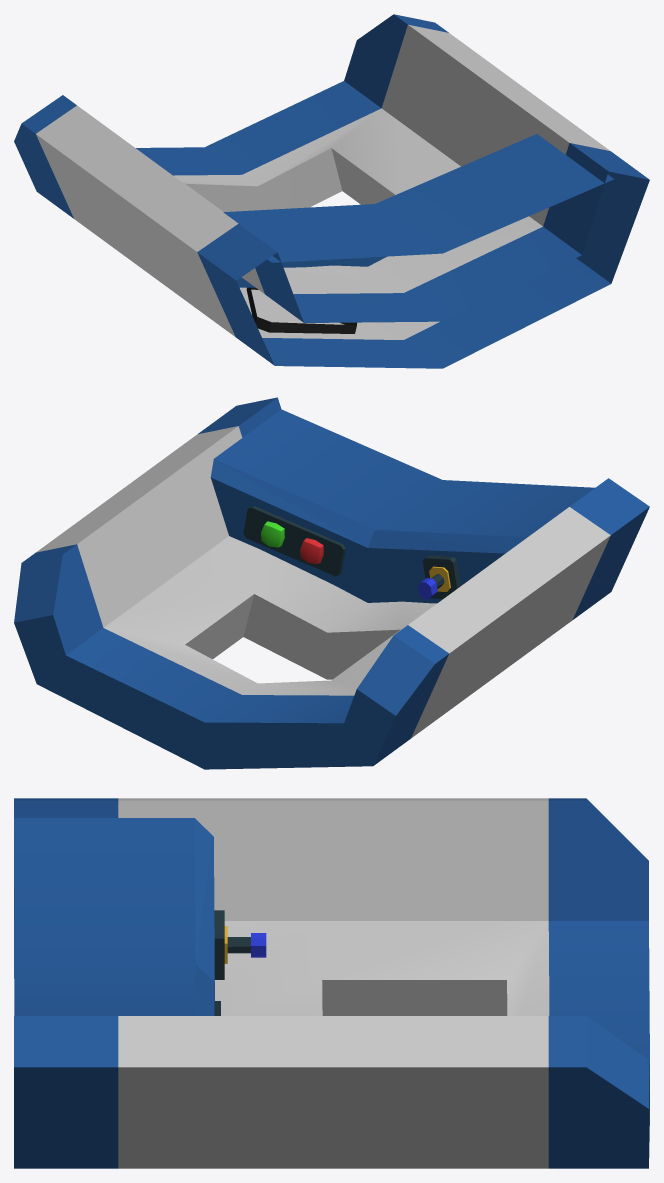
The model's file is Machine 08 Controller.FBX.
3 views of the same model, one above another, from view 1: azimuth 30°, elevation 25°; view 2: azimuth 150°, elevation 25°; view 3: azimuth 270°, elevation 25° (orthographic). The views are drawn at different scales.
Parts seen in each view (by area): view 1: Machine 08 Controller; view 2: Machine 08 Controller; view 3: Machine 08 Controller.
Part boxes in pixels (left/top/right/bottom): Machine 08 Controller: left=14, top=14, right=649, bottom=368; Machine 08 Controller: left=14, top=397, right=649, bottom=769; Machine 08 Controller: left=14, top=798, right=649, bottom=1168.
Bounding box in the file's own units: 171 × 63.17 × 171.
1 material, 1 textured.
